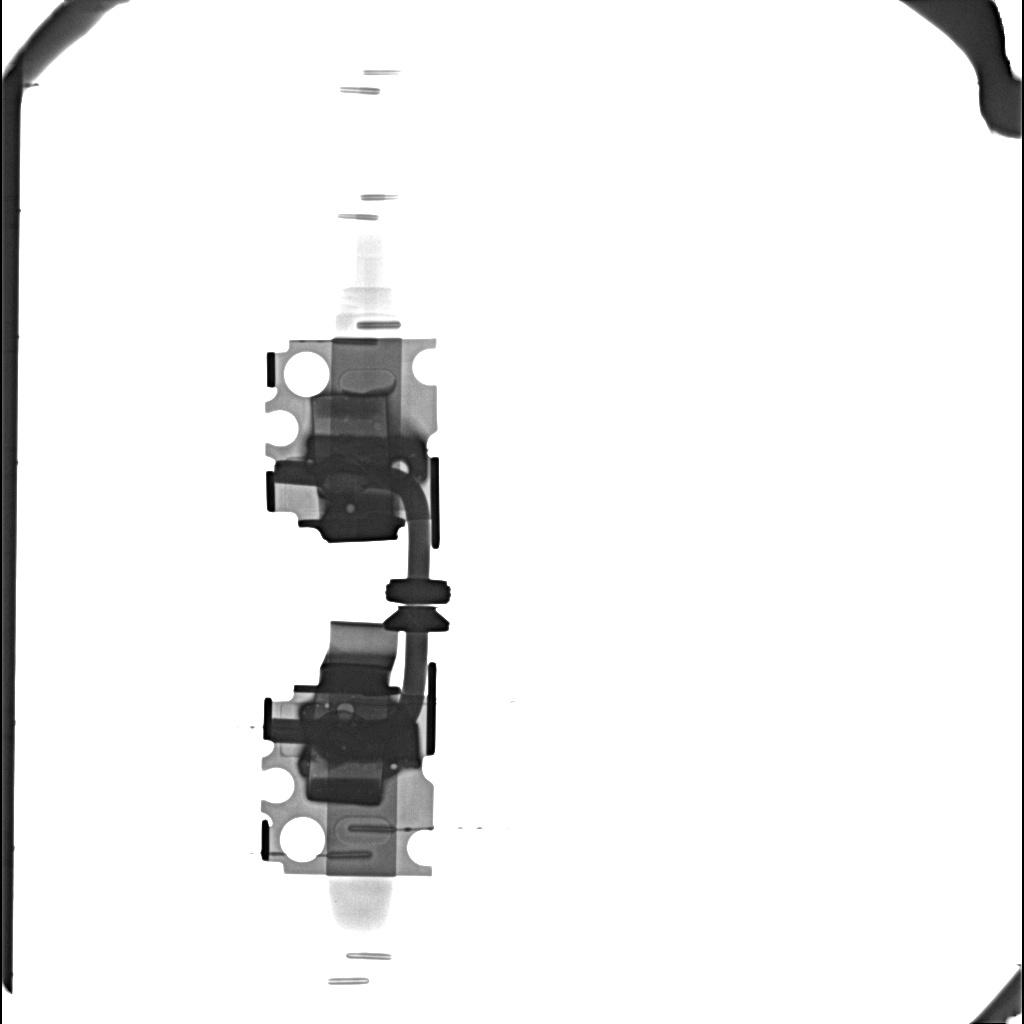PX: (306, 752, 385, 806), (310, 392, 389, 434)
QP: (337, 703, 354, 713), (345, 503, 355, 513), (324, 703, 330, 708)
SX: (304, 437, 427, 481), (307, 719, 416, 761)
